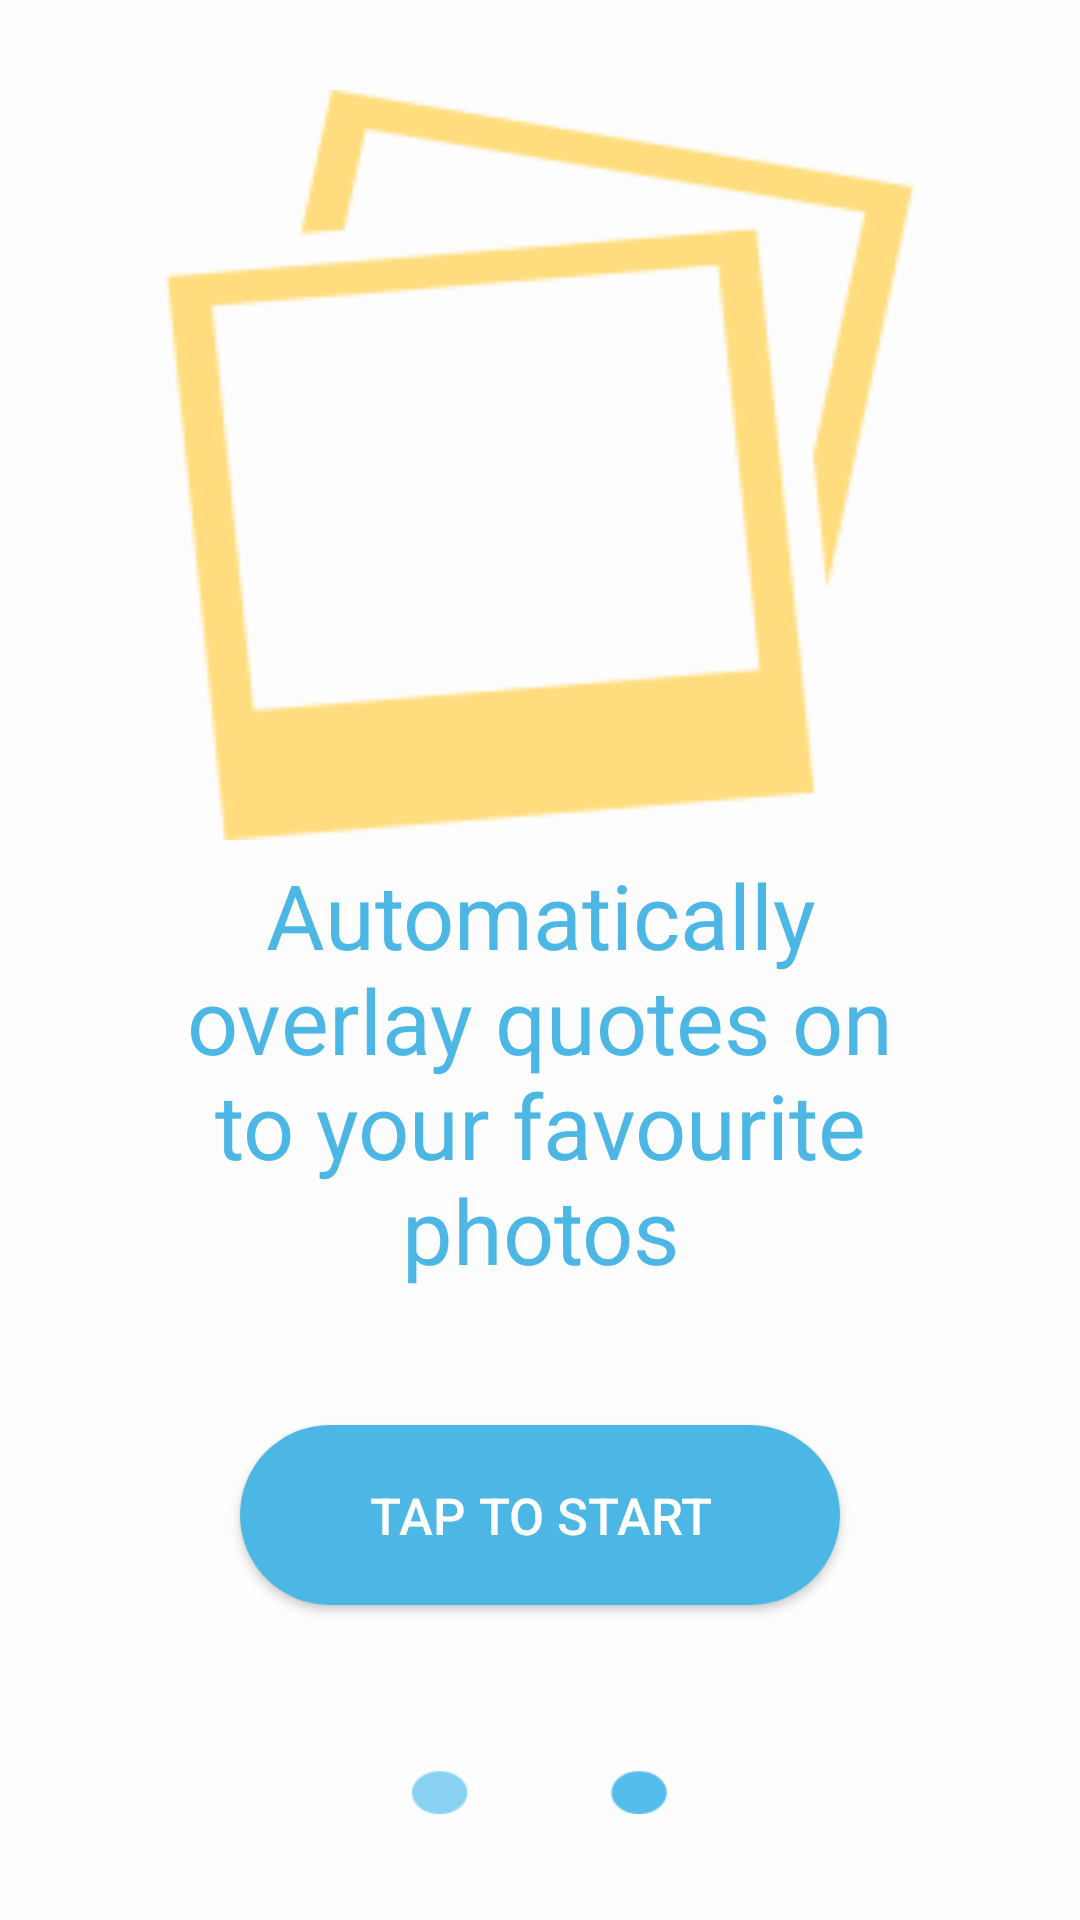

Locate icon controls on the screen. Image size 1080px×1920px, boxes as (x1, y1, x2, y2).
second view dots: (412, 1771, 667, 1814)
